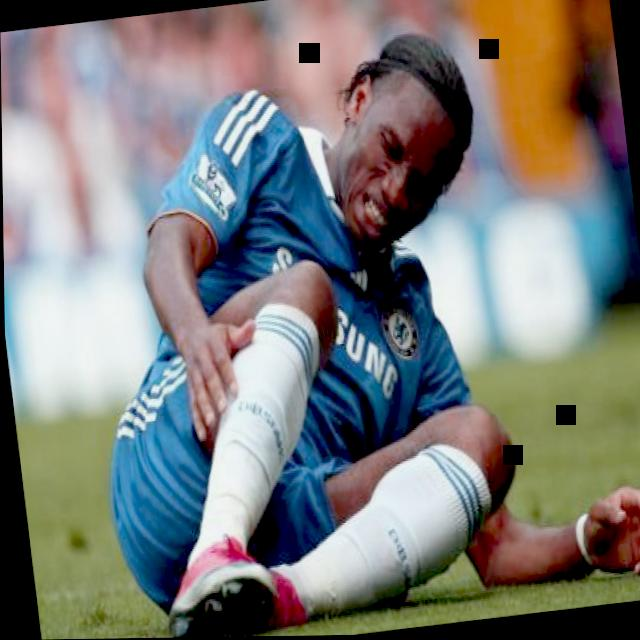Fall-Detected: (29, 0, 640, 640)
